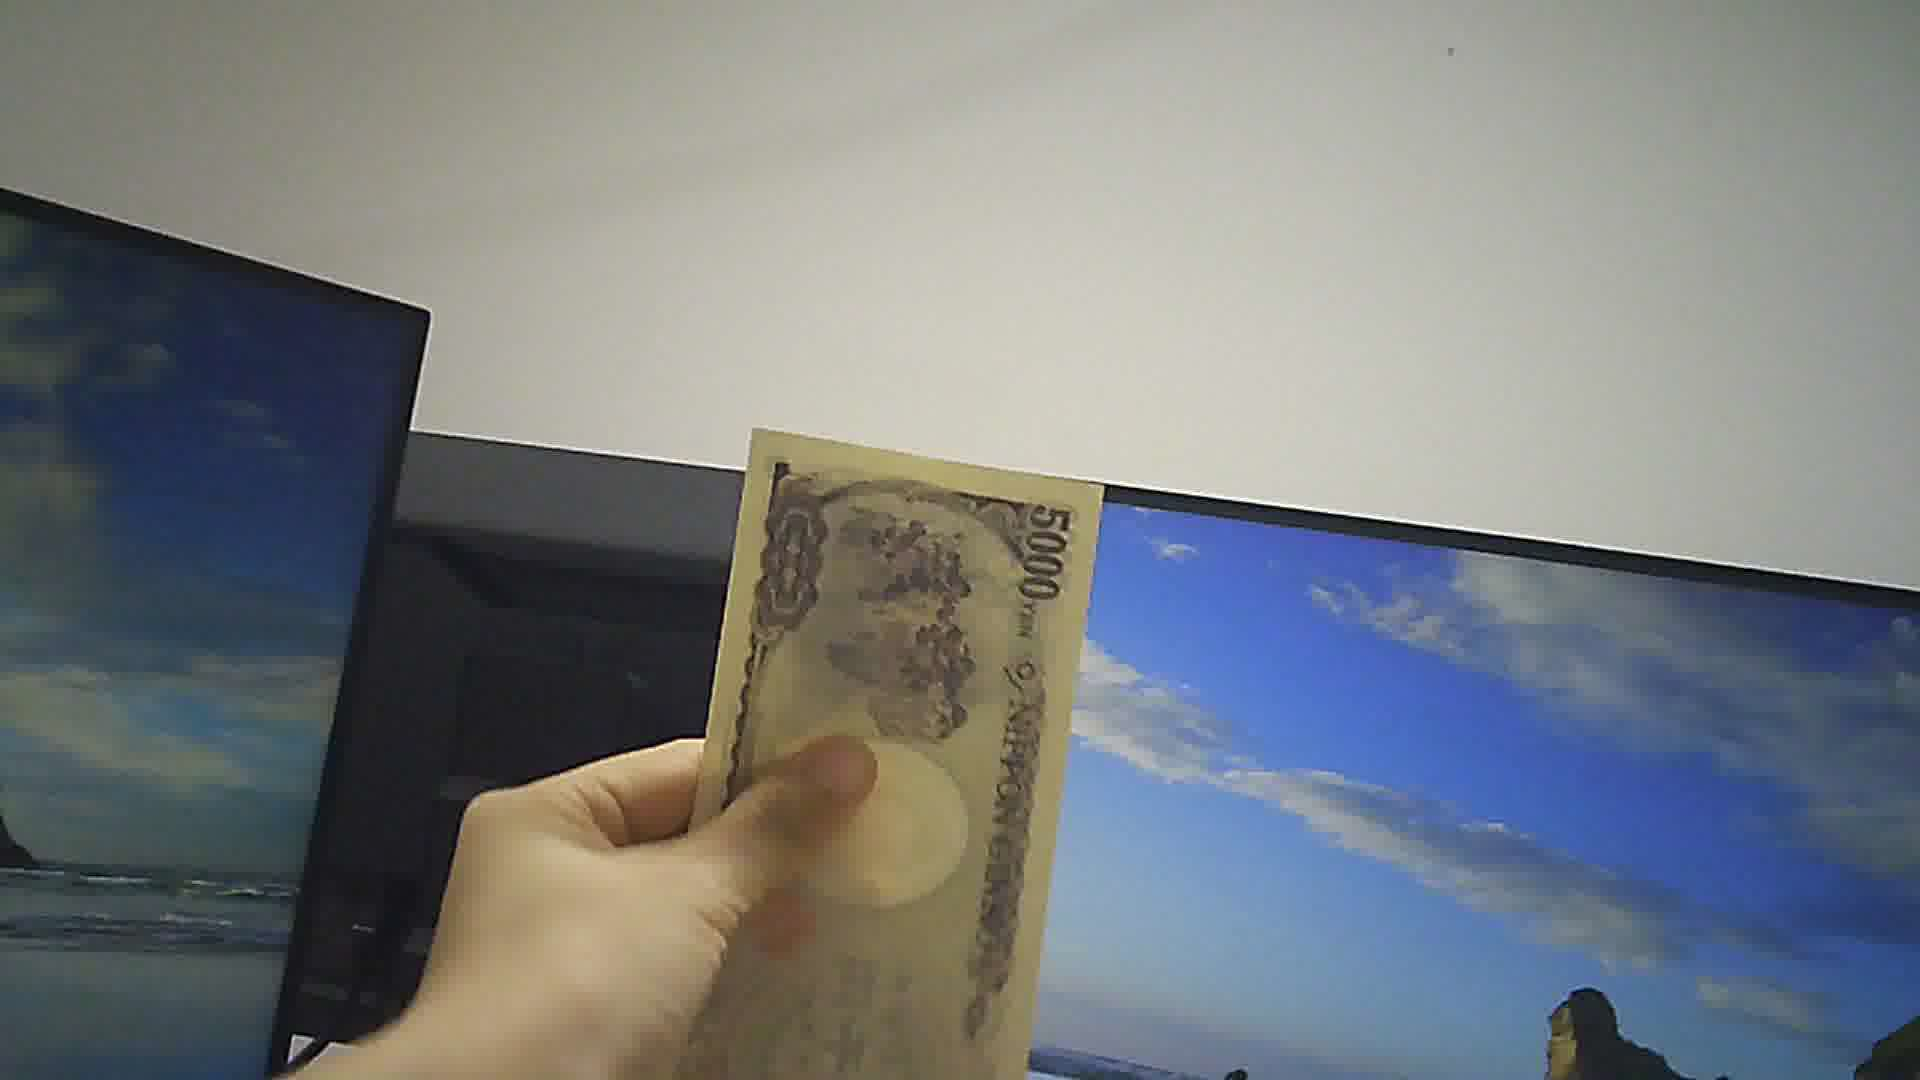5,000 Yen: (676, 419, 1095, 1069)
